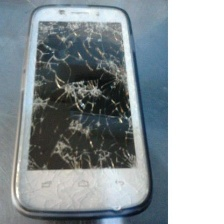phone: (8, 1, 157, 224)
